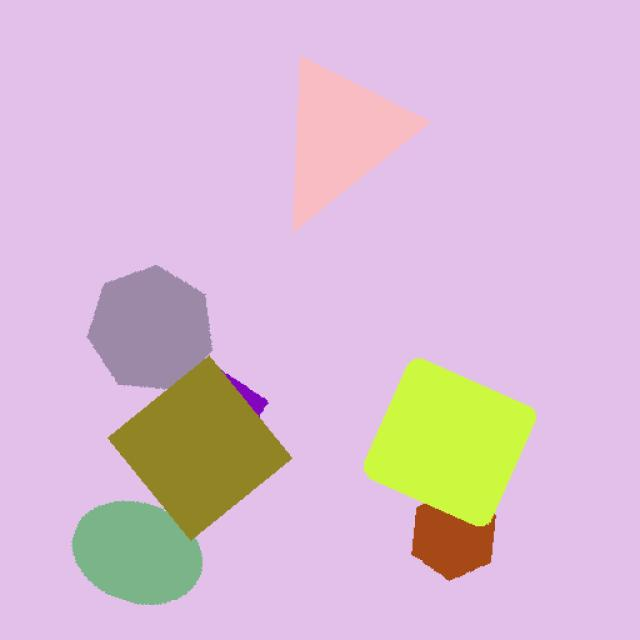Heptagon: (79, 258, 217, 408)
Hexagon: (374, 474, 520, 604)
Oval: (57, 489, 233, 625)
Triangle: (266, 36, 428, 249)
square: (103, 356, 296, 542), (360, 347, 548, 524)
